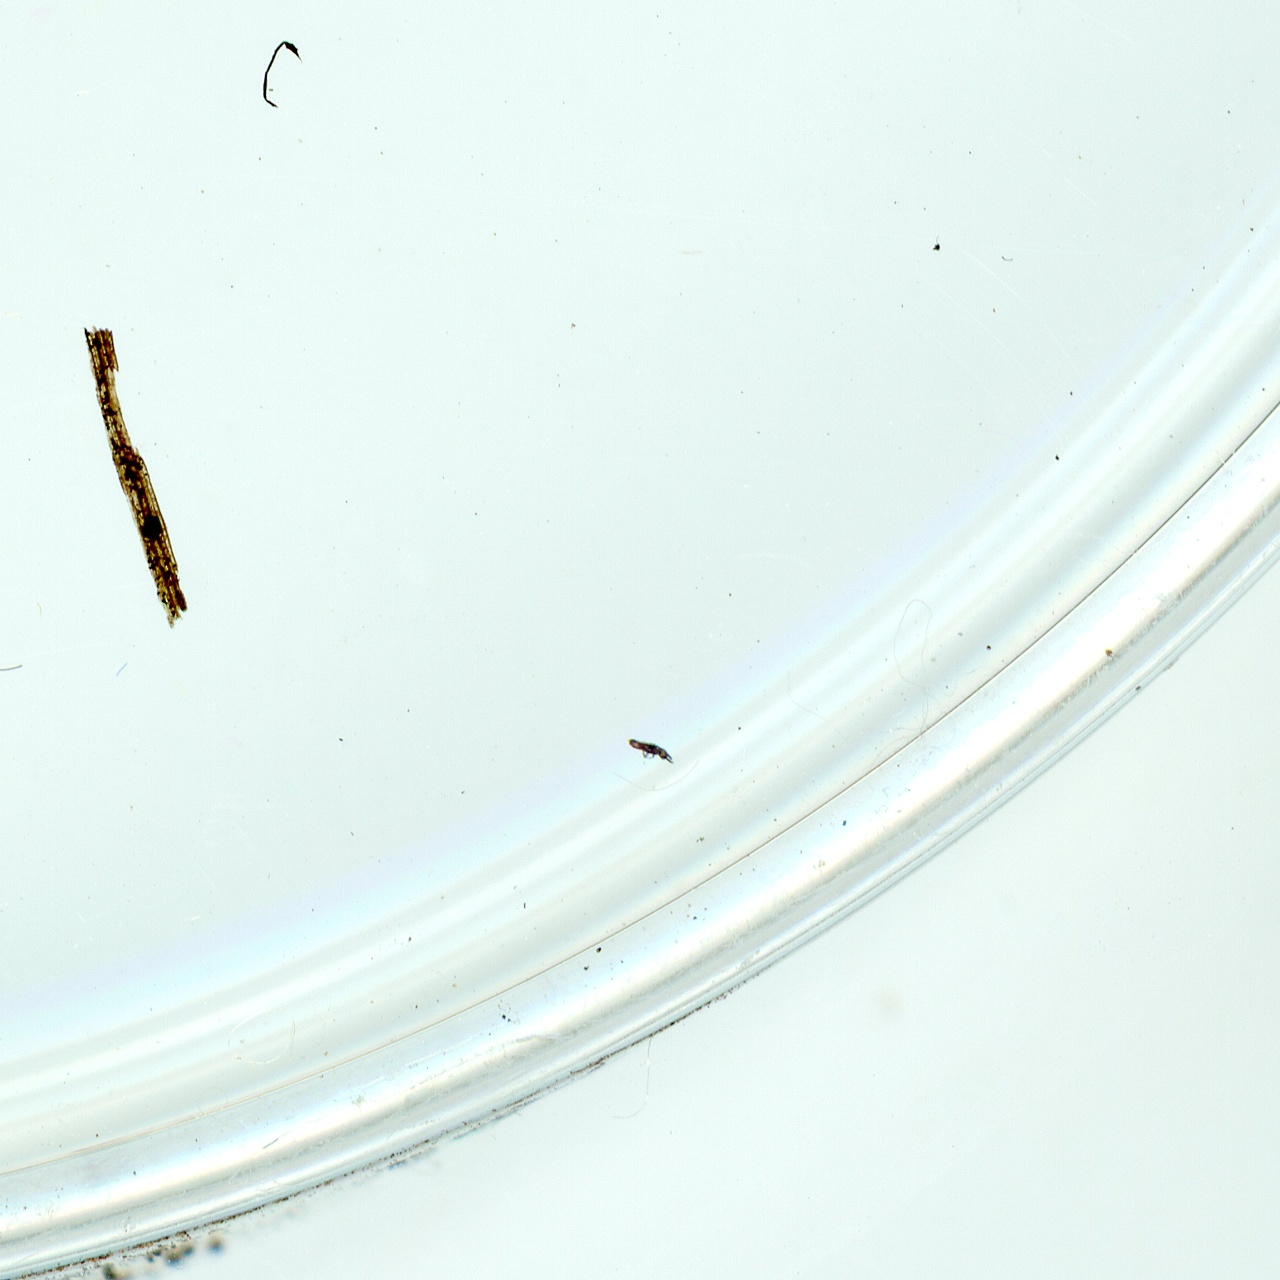arthropod: (621, 730, 680, 769)
